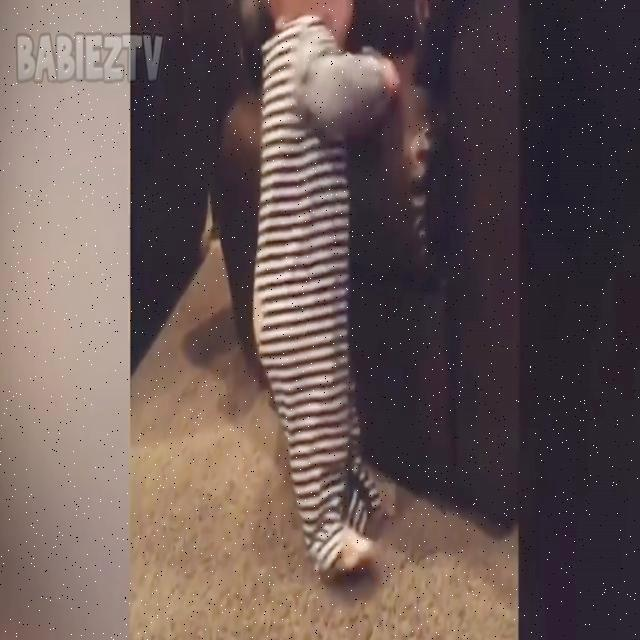child: (251, 0, 400, 586)
